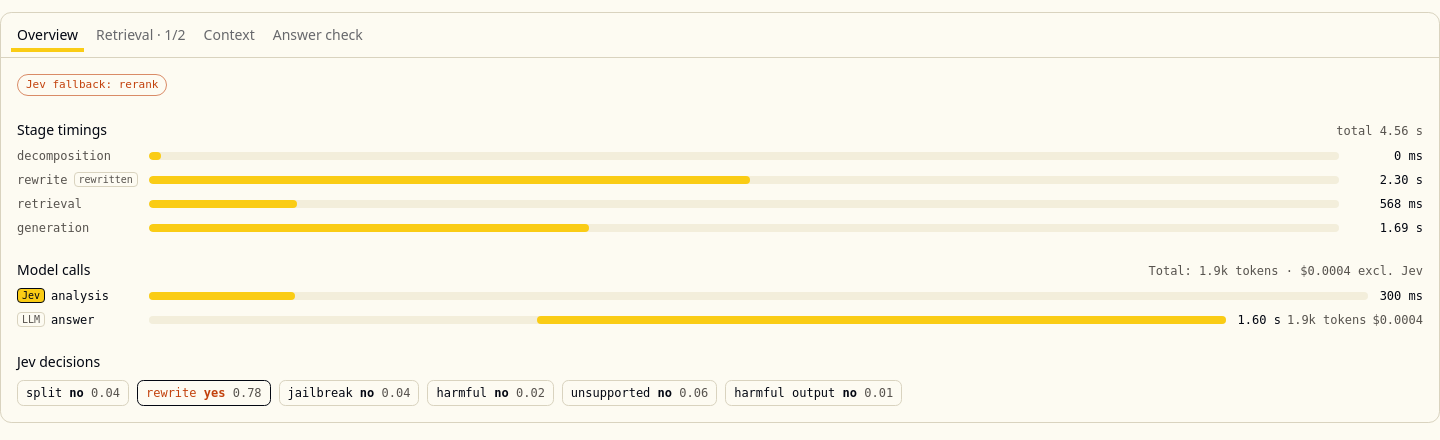
Test: transparency fields › OCR-derived candidates carry an OCR badge
Click the tab "Retrieval · 1/2": (141, 35) x1=89 y1=22 x2=193 y2=48
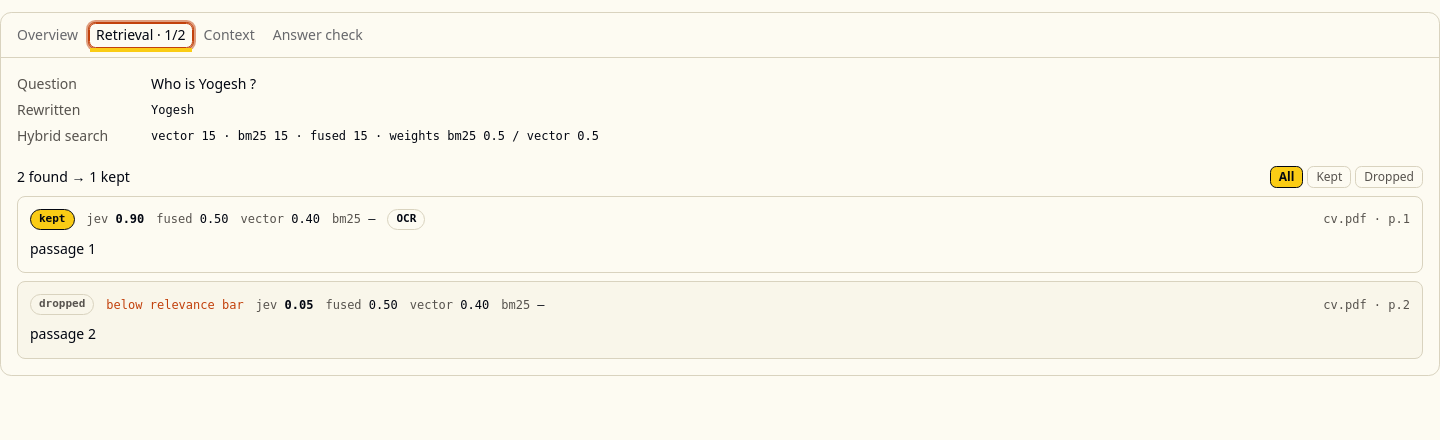
Check: the text titled "Text read from an image by OCR" is shown, box x1=396 y1=212 x2=416 y2=225
